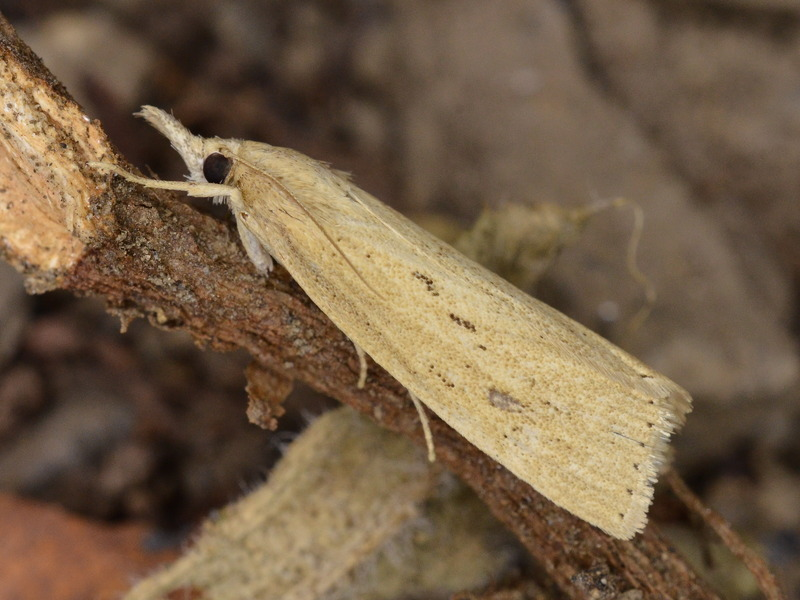Crambidae: (93, 99, 700, 544)
